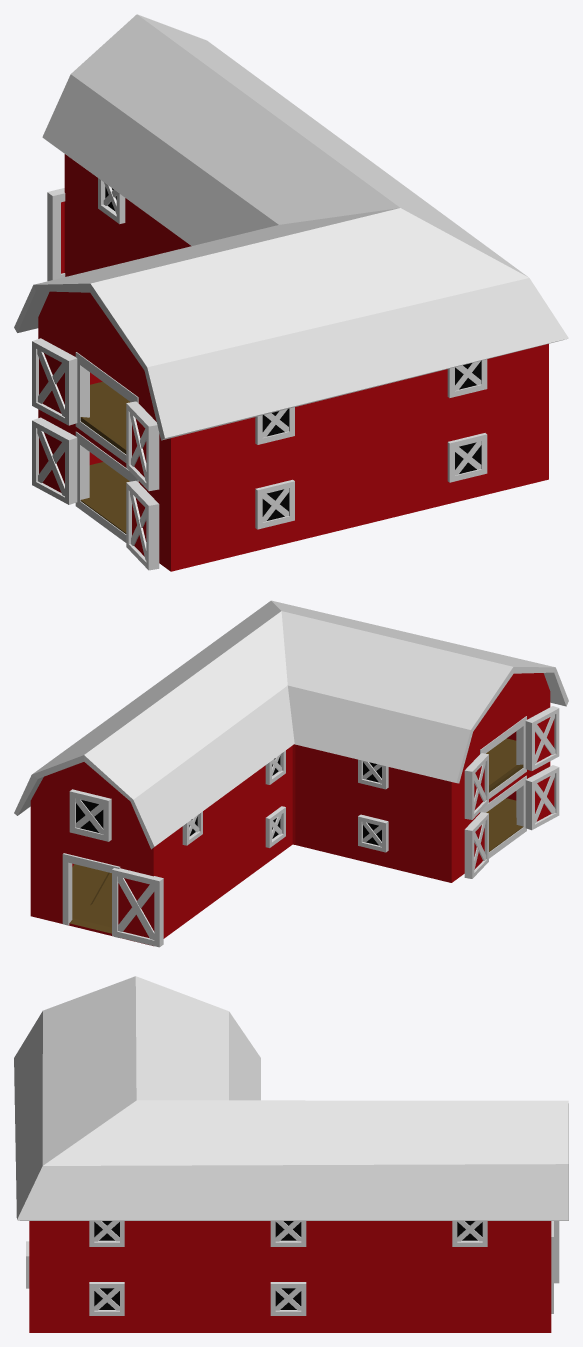
The model's file is SM_Barn_Flat.fbx.
3 renders of one model, top to bottom at view 1: azimuth 30°, elevation 25°; view 2: azimuth 150°, elevation 25°; view 3: azimuth 270°, elevation 25°, orthographic. The views are drawn at different scales.
Parts seen in each view (by area): view 1: Barn Flat; view 2: Barn Flat; view 3: Barn Flat.
Part boxes in pixels (x1=…): Barn Flat: x1=14, y1=14, x2=568, y2=571; Barn Flat: x1=14, y1=600, x2=568, y2=947; Barn Flat: x1=14, y1=976, x2=568, y2=1332.
Bounding box in the file's own units: 1480 × 860 × 2136.
